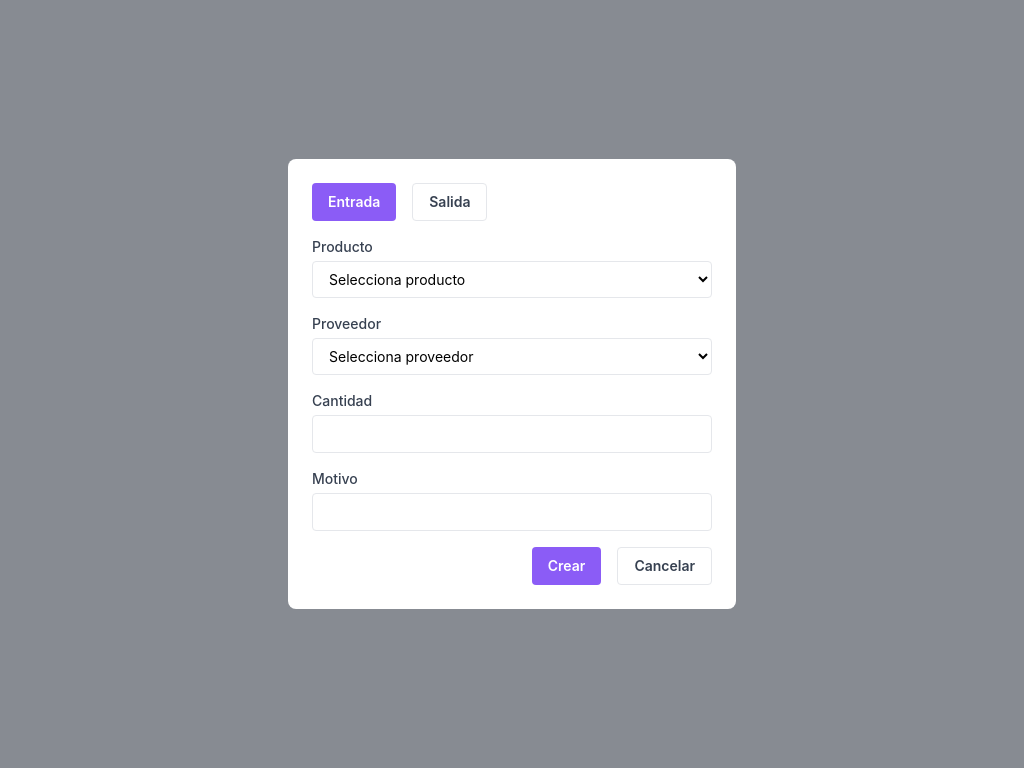
T12 — Tests componentes MovimientosHistorial/MovimientoFormModal (selects condicionados) — RF-1..3 › cambio de tipo conserva producto/cantidad/motivo y limpia proveedor/errores
This screenshot has width=1024, height=768.
Select "PROD-001 — Juego A" in the dropdown labelled "Producto". click: (512, 280)
box: [312, 261, 712, 298]
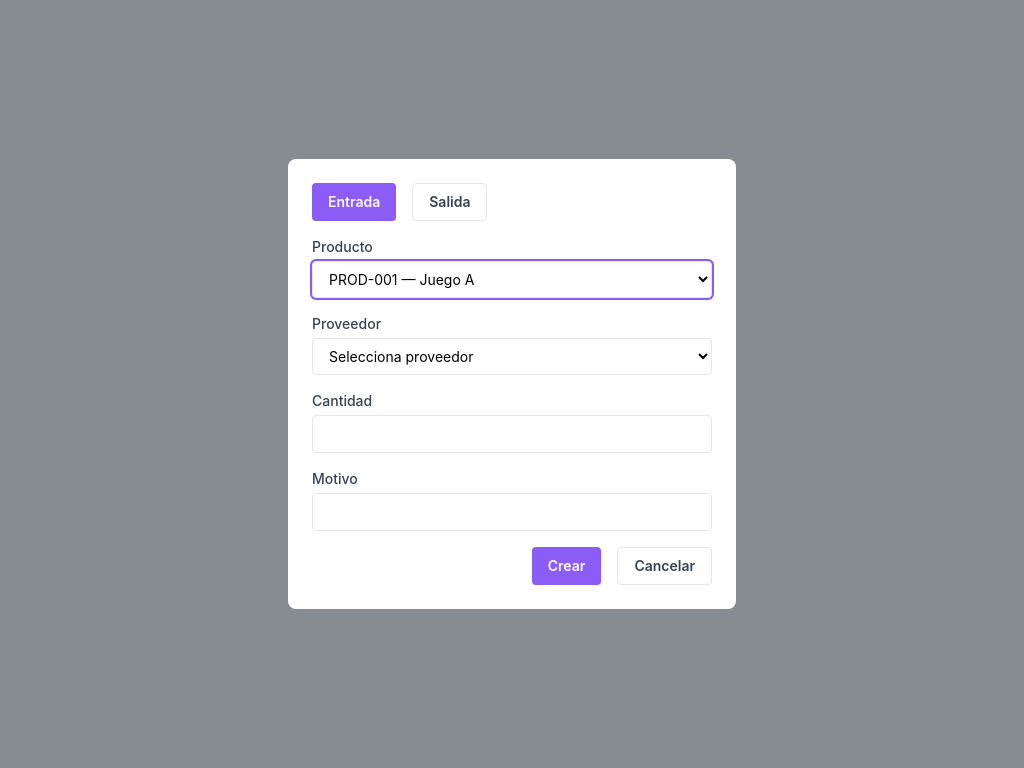
Type "5" into the field labelled "Cantidad". click: (512, 434)
box: [312, 415, 712, 453]
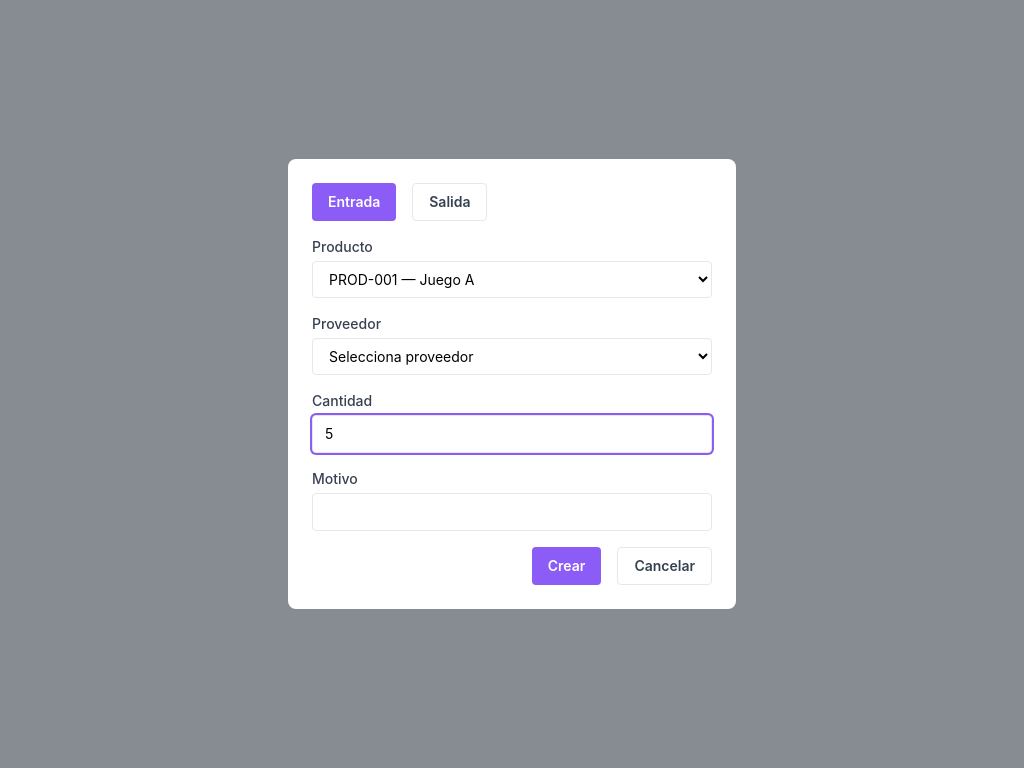
Type "Compra" into the field labelled "Motivo". click: (512, 512)
box: [312, 493, 712, 531]
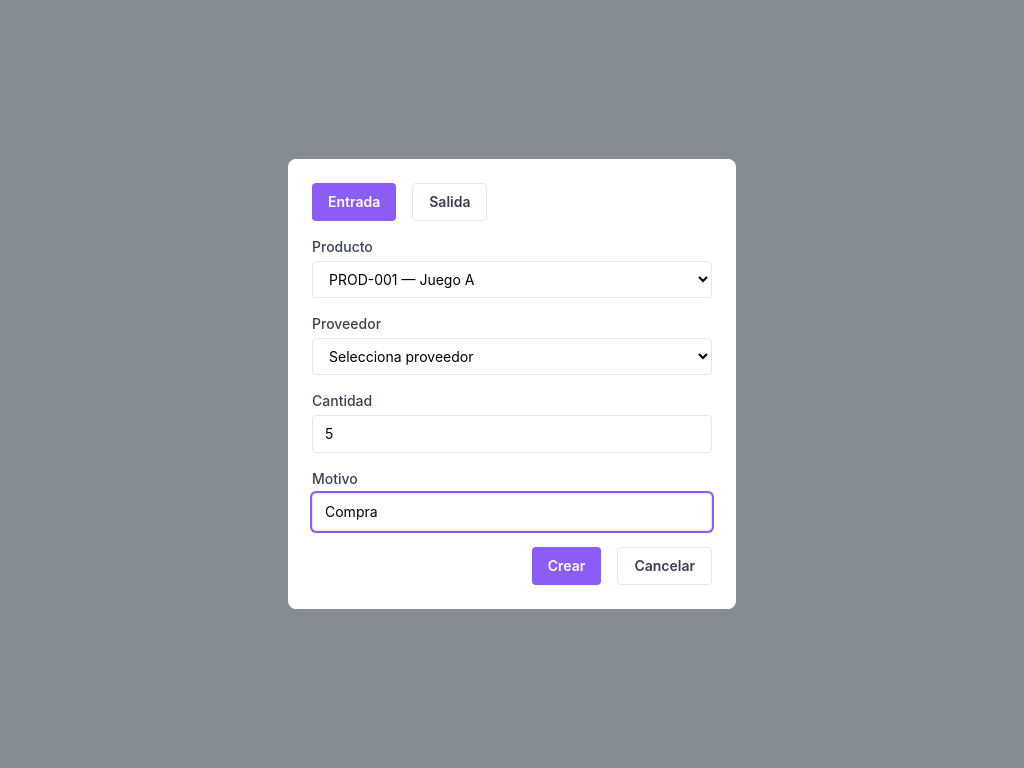
Click the button "Crear". click: (567, 566)
box: [532, 547, 601, 585]
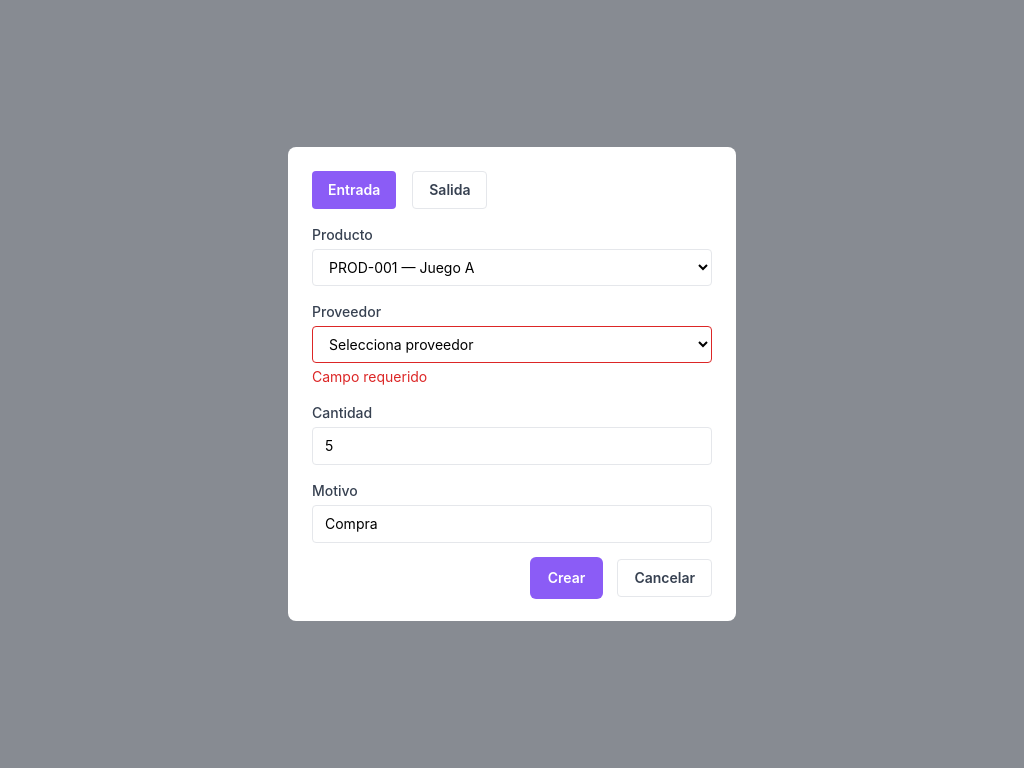
Check: the text "Campo requerido" is shown, box [312, 368, 427, 385]
Click the tab "Salida". click: (450, 190)
box: [412, 171, 488, 209]
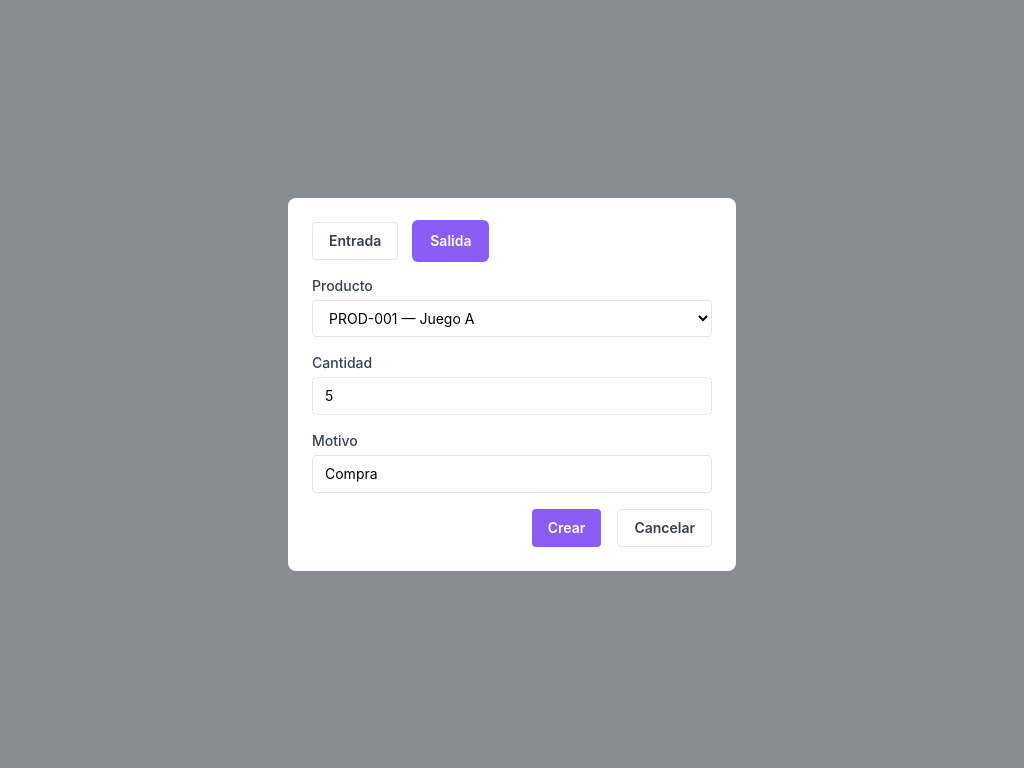
Check: the text "Campo requerido" is gone
Check: the label labelled "Proveedor" is gone
